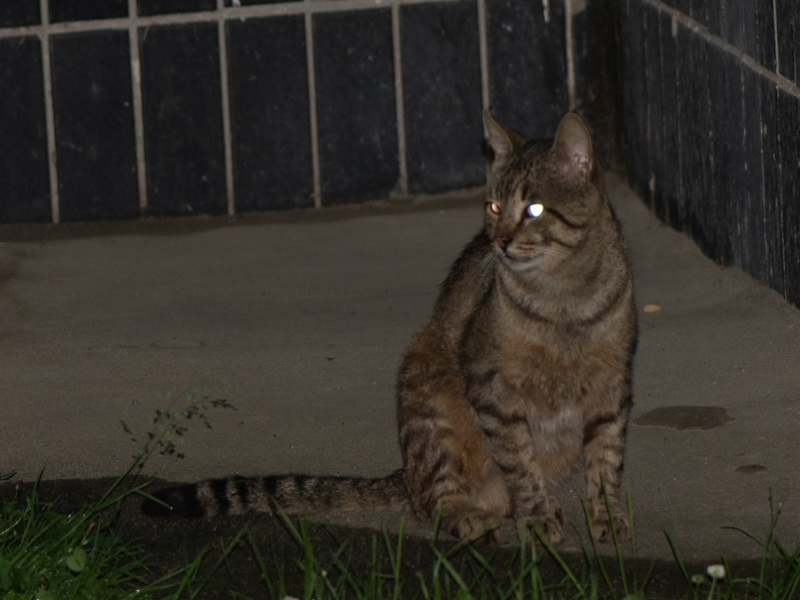cat: (145, 110, 643, 541)
